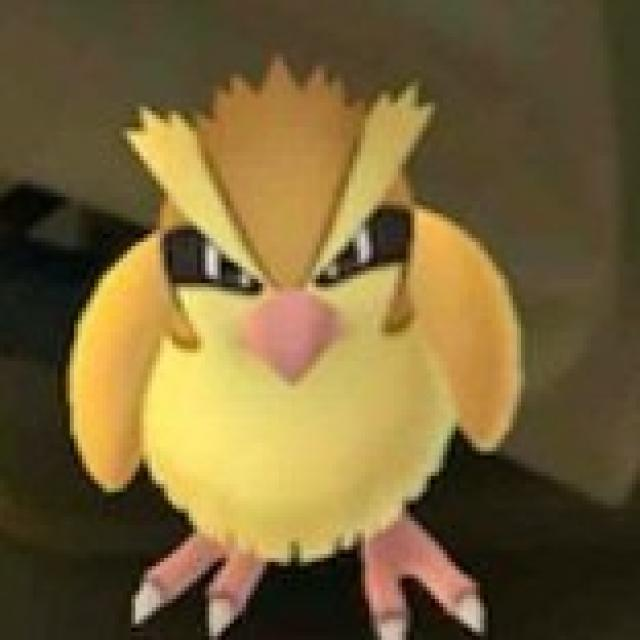Pidgey: (64, 73, 529, 640)
